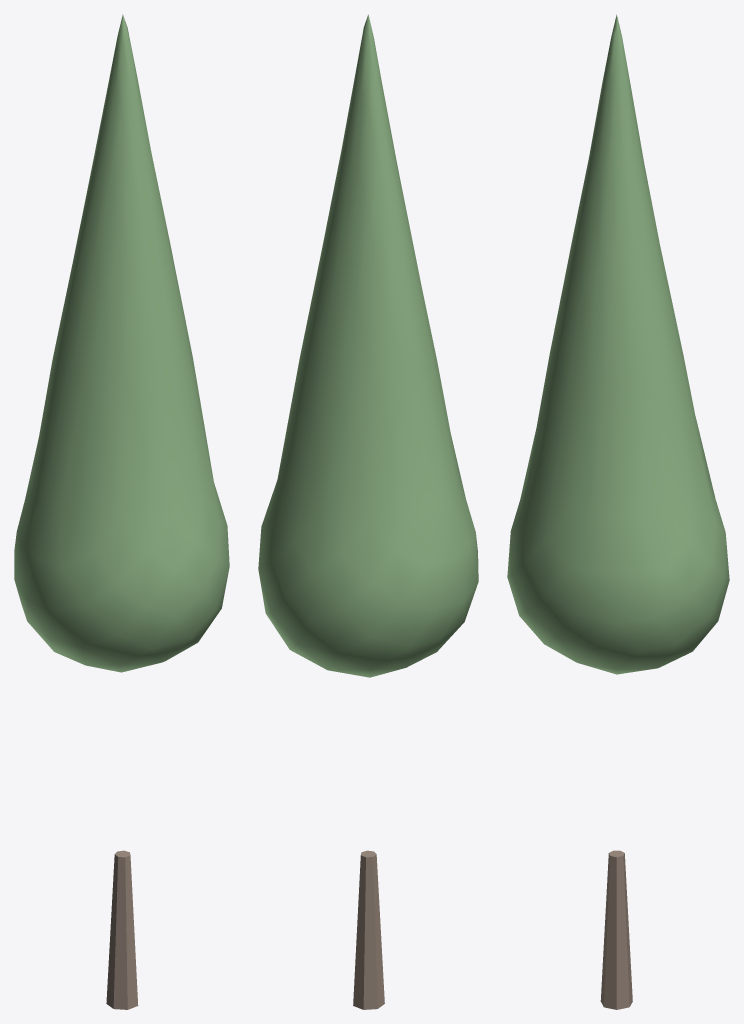
The model's file is tree-conifer-c.glb.
The picture shows the model from 3 angles, left to right: view 1: azimuth 30°, elevation 25°; view 2: azimuth 150°, elevation 25°; view 3: azimuth 270°, elevation 25°; orthographic projection.
Visible parts, largest first — view 1: tree-conifer-c; view 2: tree-conifer-c; view 3: tree-conifer-c.
Boxes of the visible parts, x1,y1,x2,y2 form: tree-conifer-c: (14,14,229,1009); tree-conifer-c: (258,14,478,1009); tree-conifer-c: (507,14,729,1009).
Bounding box in the file's own units: 0.2009 × 1 × 0.2037.
